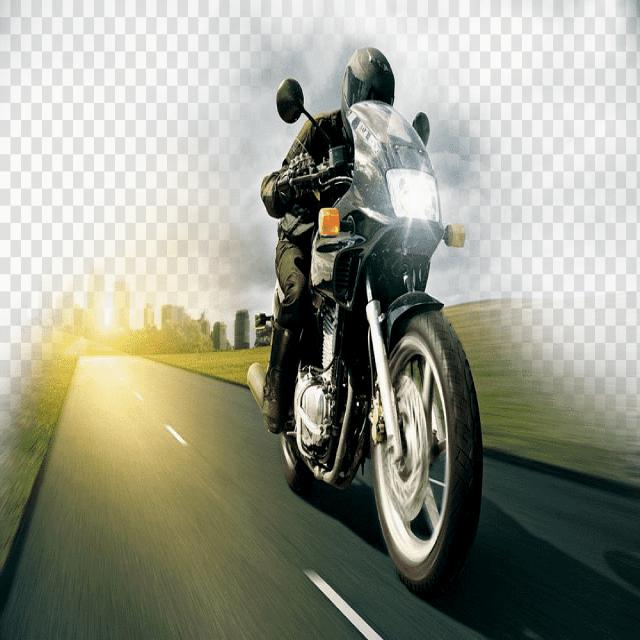MOTORCYCLE: (255, 65, 478, 598)
